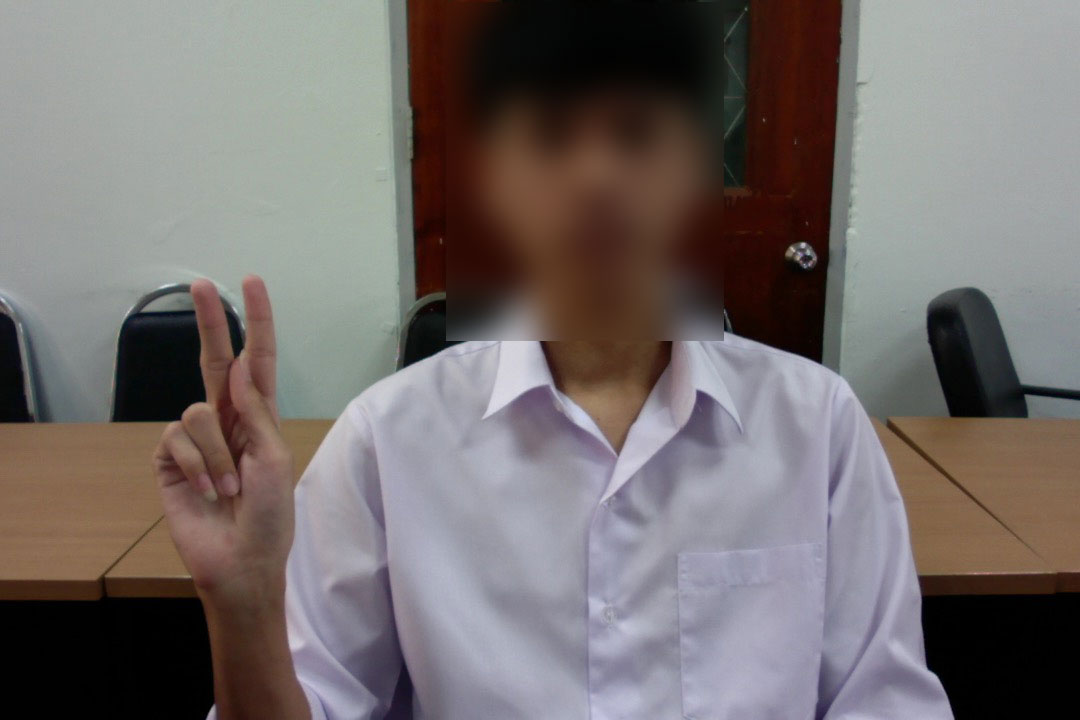ko: (146, 262, 313, 601)
